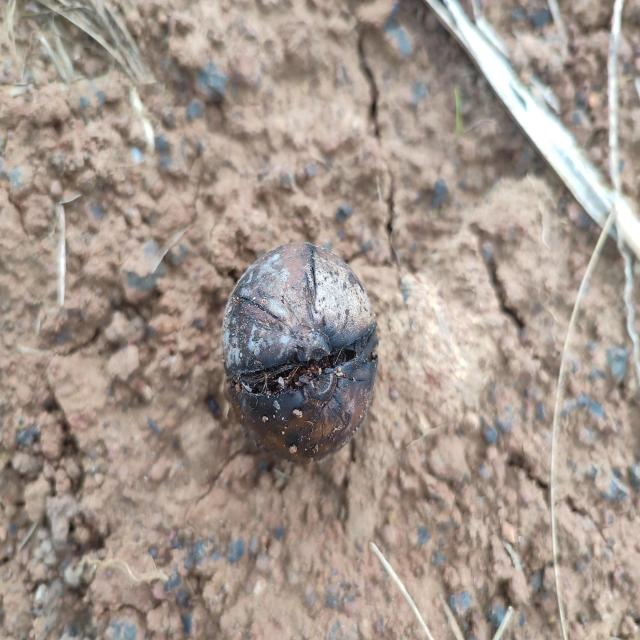damaged: (223, 243, 378, 460)
